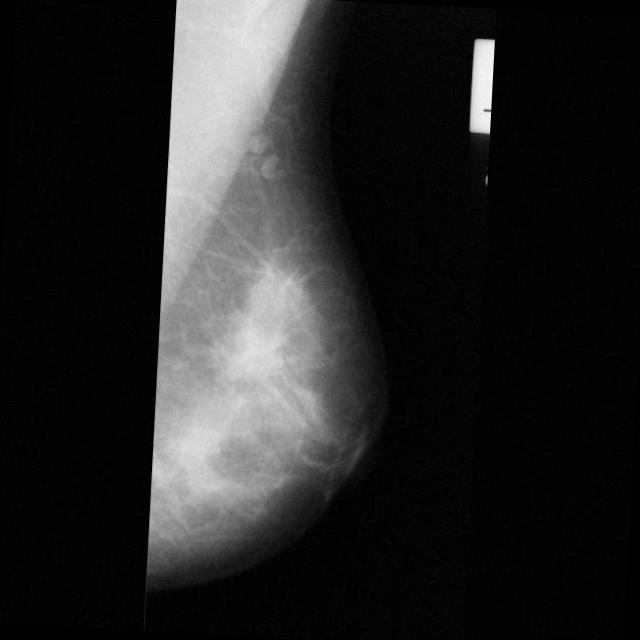ASYM: (234, 325, 282, 374)
